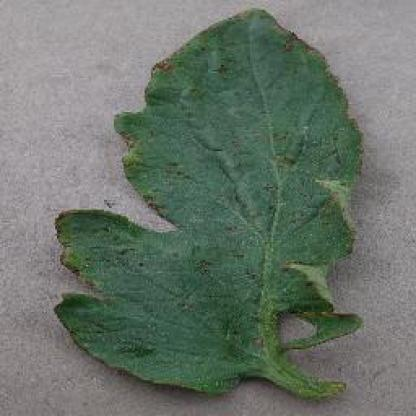bad leaf: (58, 221, 98, 315), (141, 185, 188, 226), (121, 120, 142, 172), (151, 56, 178, 81), (220, 58, 250, 74)
